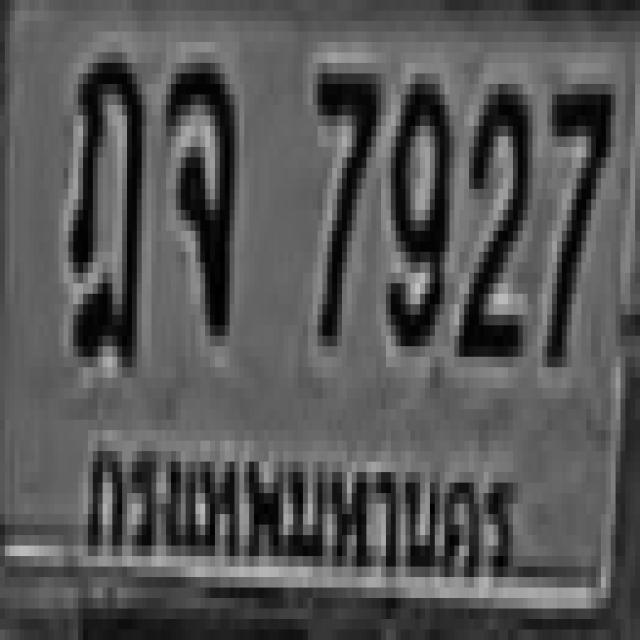17ChorChan: (161, 52, 230, 326)
2: (454, 74, 528, 346)
23DorChaDa: (68, 42, 142, 357)
7: (542, 73, 611, 357), (313, 63, 376, 336)
9: (384, 73, 447, 336)
Bangkok: (70, 400, 526, 600)
